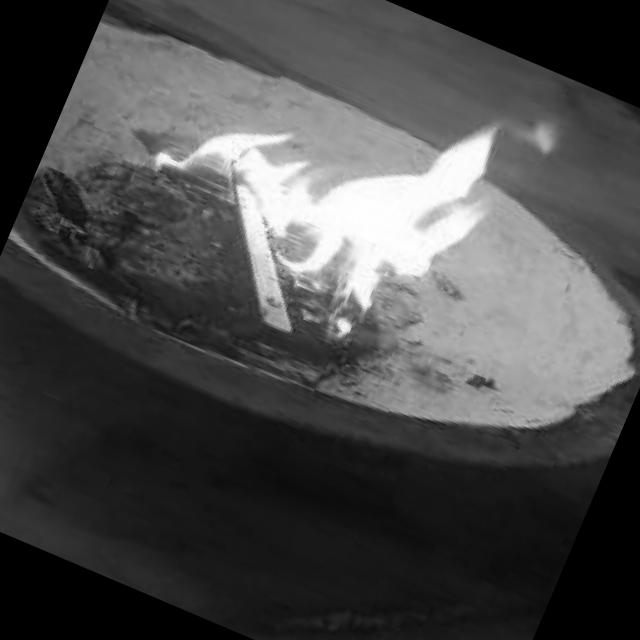fire: (124, 0, 573, 371)
